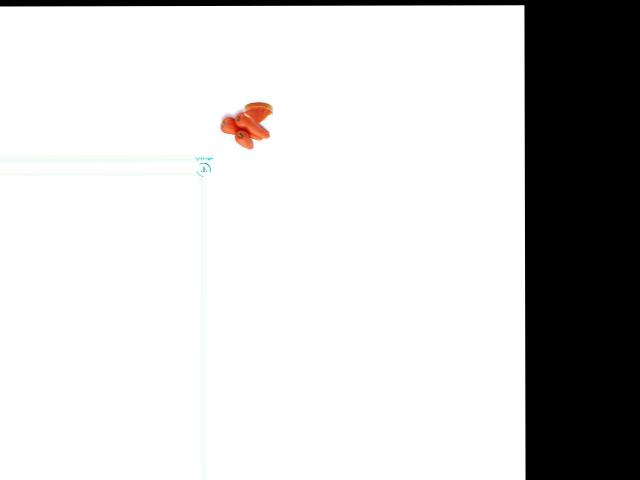carrot: (235, 114, 271, 140)
